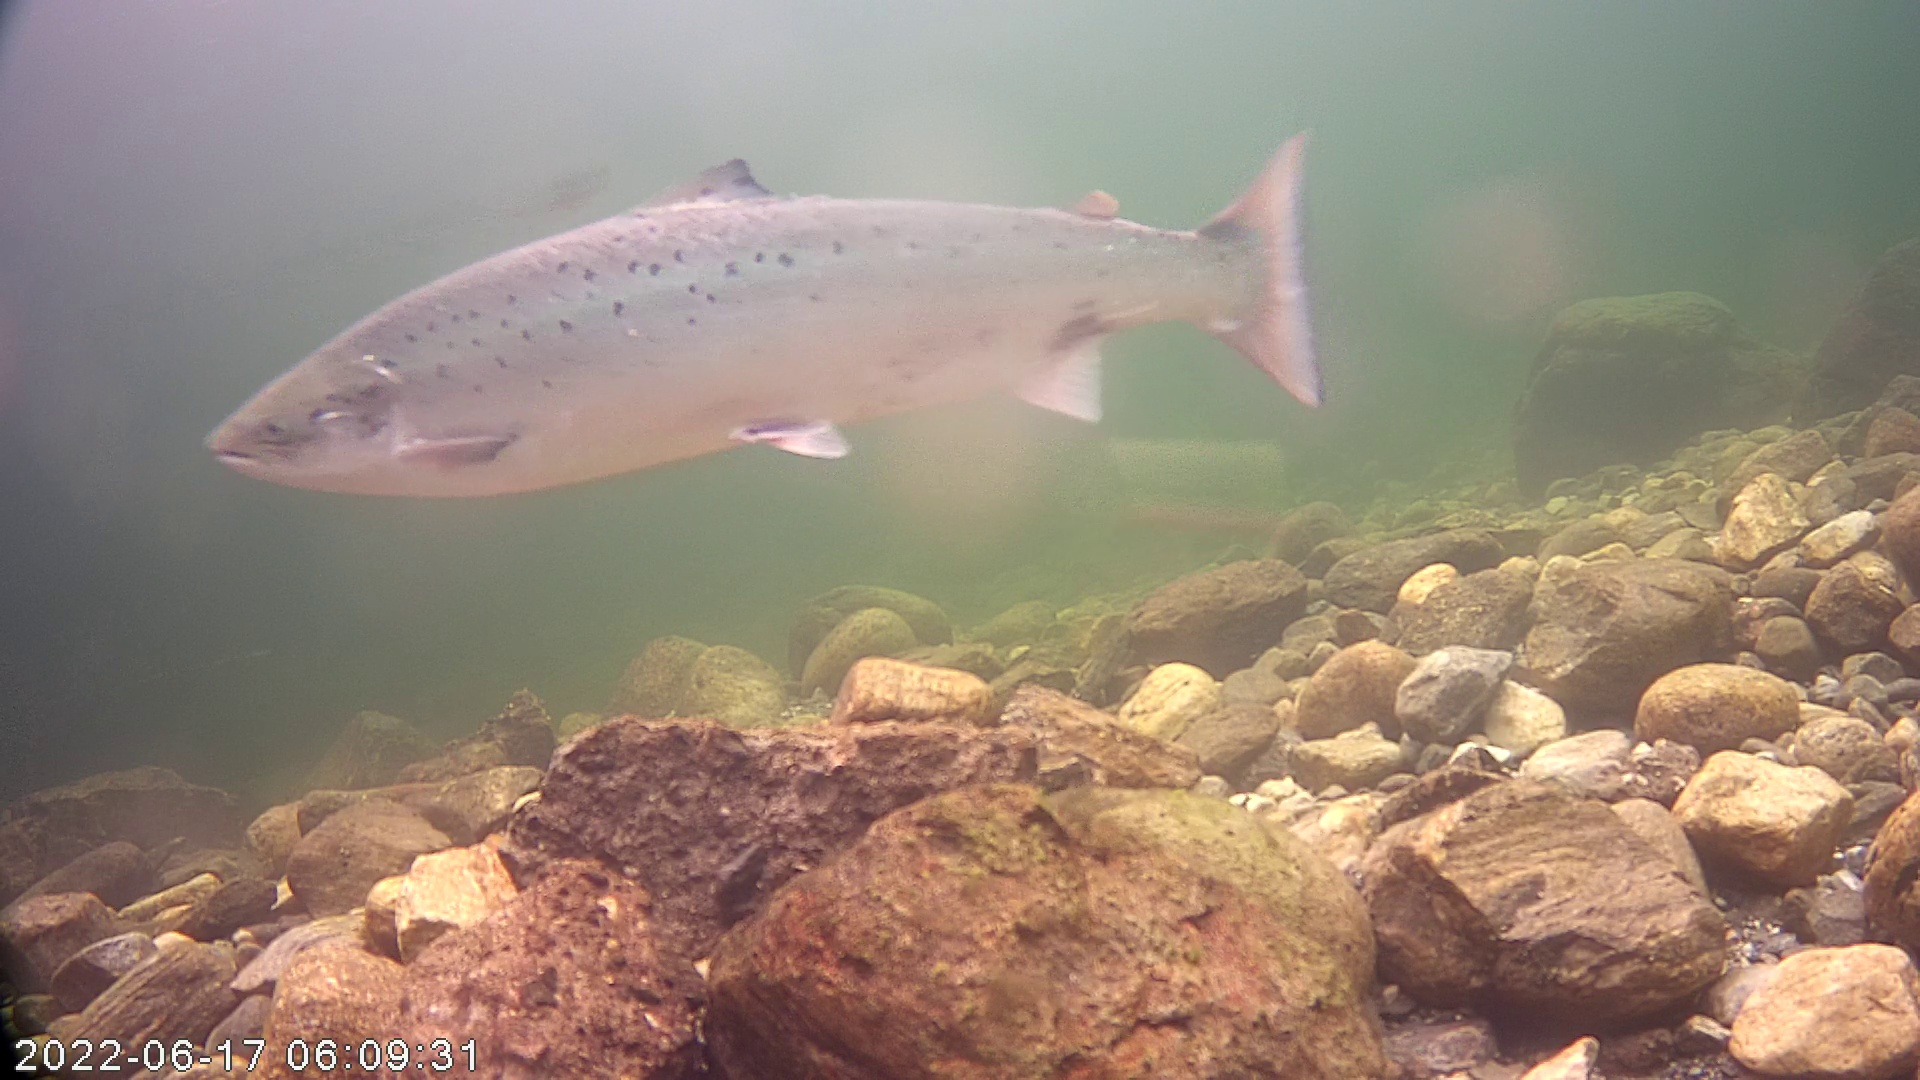salmon: (202, 131, 1327, 501)
